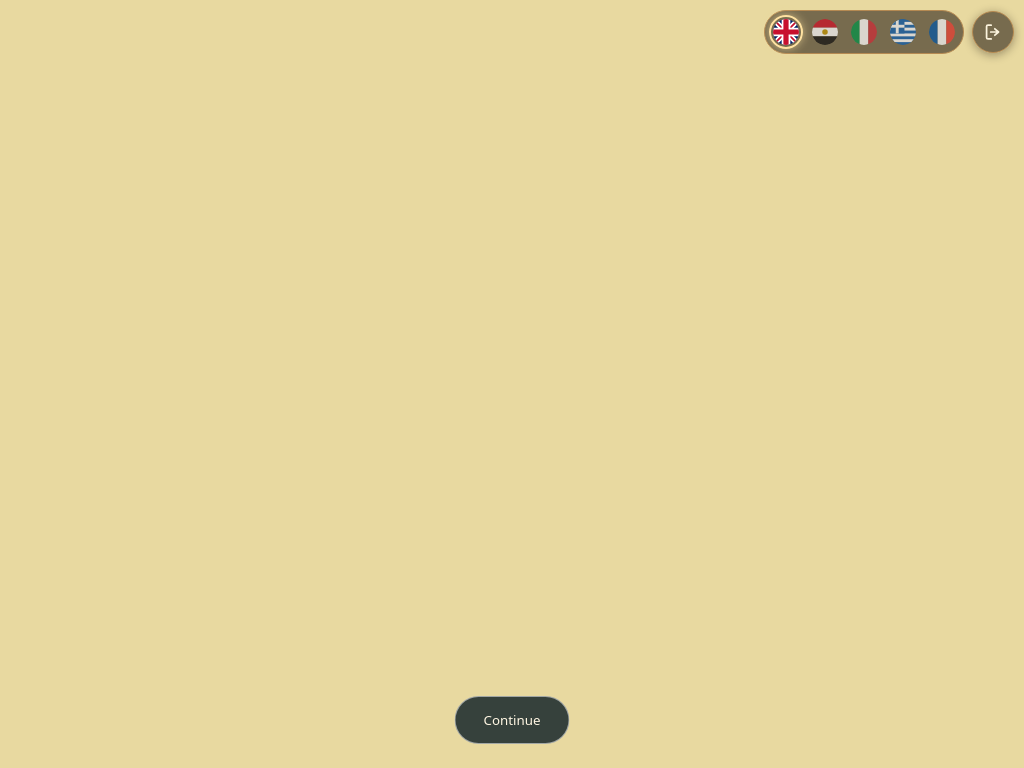
Test case: GatePage — successful login › logging out returns to the Gate dial entry screen
Click the button named "log out".
click(993, 32)  # box [972,11,1014,53]
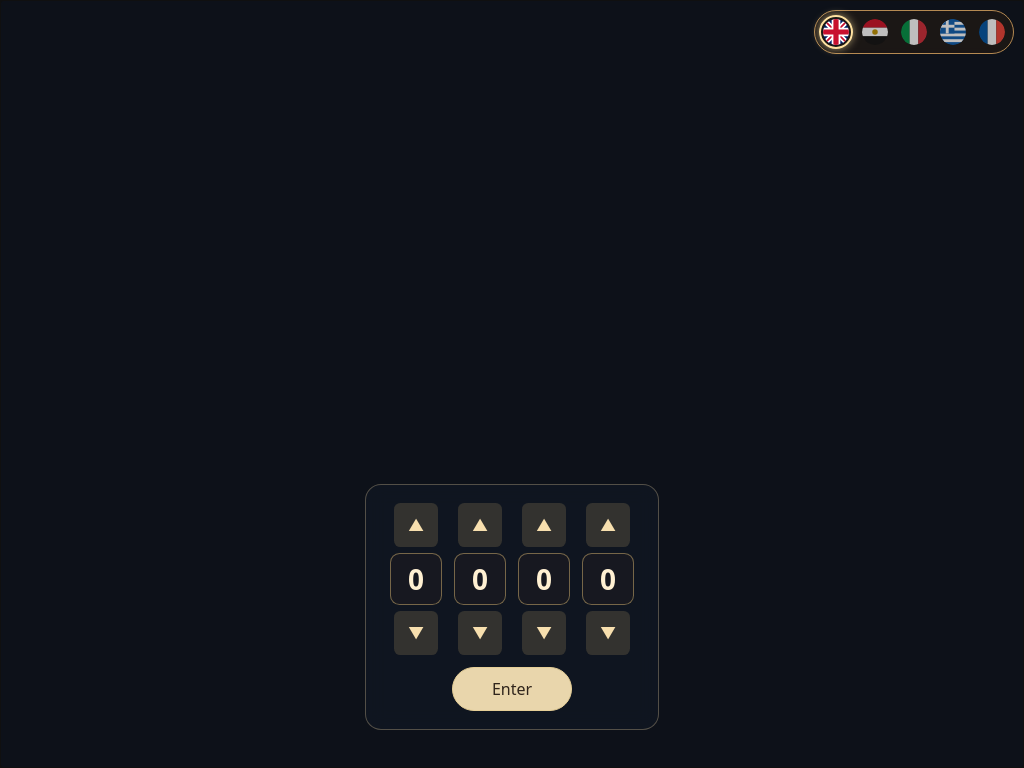
Check: the element named "four-digit gate code" is shown, box [390,503,634,655]
